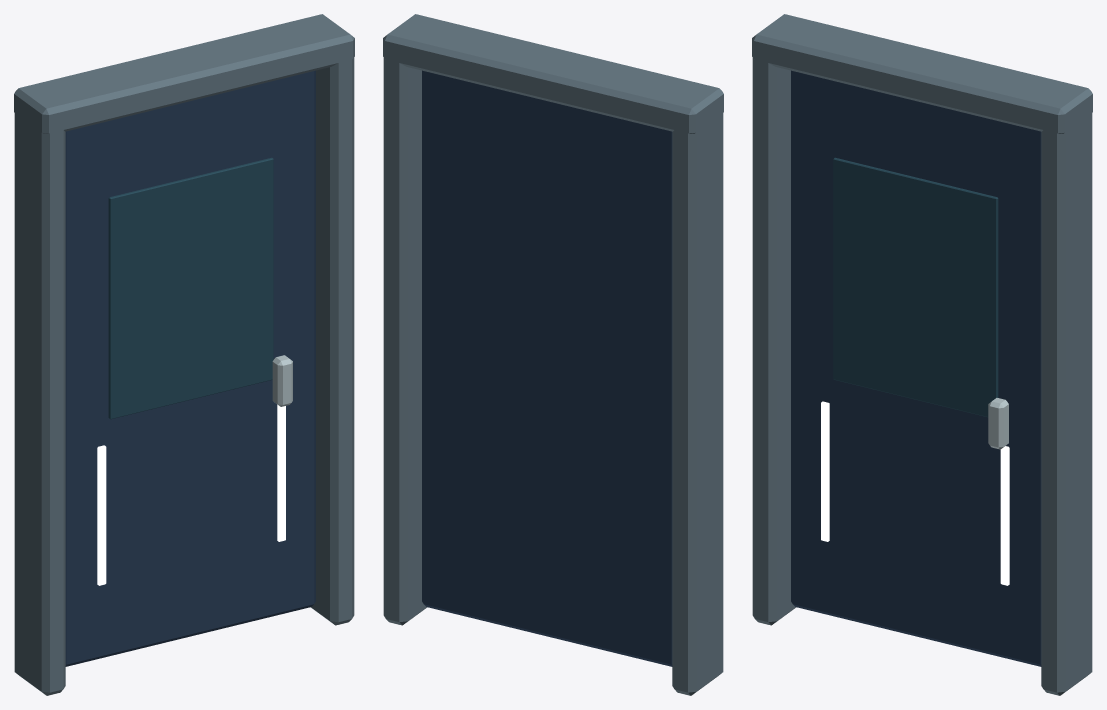
File: architecture-bulkhead.lod0.glb
The picture shows the model from 3 angles, left to right: view 1: azimuth 30°, elevation 25°; view 2: azimuth 150°, elevation 25°; view 3: azimuth 330°, elevation 25°; orthographic projection.
Parts seen in each view (by area): view 1: architecture-bulkhead__door, architecture-bulkhead__body; view 2: architecture-bulkhead__door, architecture-bulkhead__body; view 3: architecture-bulkhead__door, architecture-bulkhead__body.
Part boxes in pixels (box(x1,y1,x2,y2)): architecture-bulkhead__door: box(65, 70, 315, 666); architecture-bulkhead__body: box(14, 14, 354, 695); architecture-bulkhead__door: box(422, 70, 672, 666); architecture-bulkhead__body: box(383, 14, 723, 695); architecture-bulkhead__door: box(791, 70, 1041, 666); architecture-bulkhead__body: box(752, 14, 1092, 695).
Bounding box in the file's own units: 1.42 × 2.55 × 0.26.
